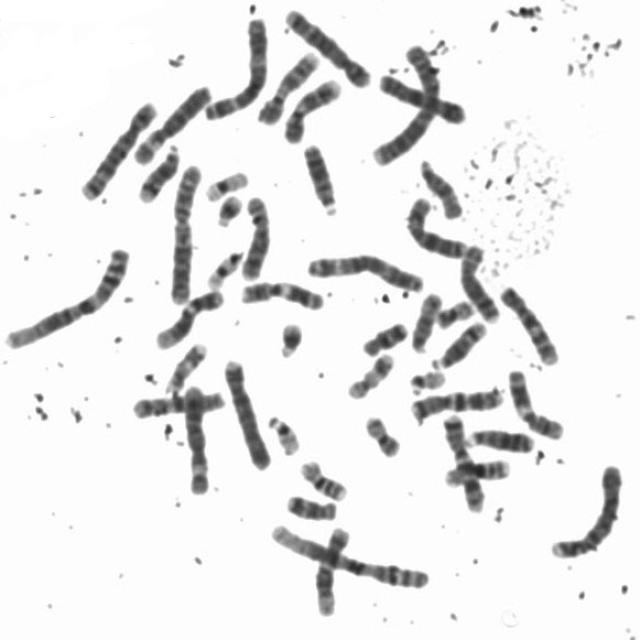A1: (0, 241, 133, 351), (264, 518, 433, 592)
A2: (367, 38, 444, 168), (164, 158, 205, 306)
A3: (200, 10, 274, 121), (302, 247, 427, 294)
B4: (545, 457, 626, 561), (218, 352, 272, 472)
B5: (75, 94, 160, 202), (277, 2, 373, 89)
C10: (494, 279, 560, 367), (128, 386, 230, 420)
C11: (502, 362, 568, 442), (236, 274, 328, 312)
C12: (150, 283, 227, 350), (310, 521, 354, 617)
C6: (129, 78, 212, 166), (178, 379, 210, 497)
C7: (437, 408, 488, 513), (406, 380, 508, 423)
C8: (455, 239, 503, 324), (237, 190, 274, 281)
C9: (251, 45, 322, 127), (280, 73, 345, 145)
D13: (298, 138, 342, 217), (462, 422, 536, 455)
D14: (426, 316, 489, 371), (132, 140, 182, 204)
D15: (413, 153, 466, 220), (406, 286, 445, 355)
E16: (296, 455, 350, 502), (441, 454, 513, 489)
E17: (342, 347, 397, 401), (160, 336, 209, 394)
E18: (358, 316, 411, 358), (281, 489, 339, 522)
F19: (200, 246, 244, 290), (201, 165, 251, 203)
F20: (359, 410, 403, 459), (431, 294, 476, 331)
G21: (272, 316, 305, 360), (212, 188, 246, 228)
G22: (262, 409, 303, 457), (404, 364, 450, 396)
X: (374, 67, 469, 126), (402, 192, 472, 260)
